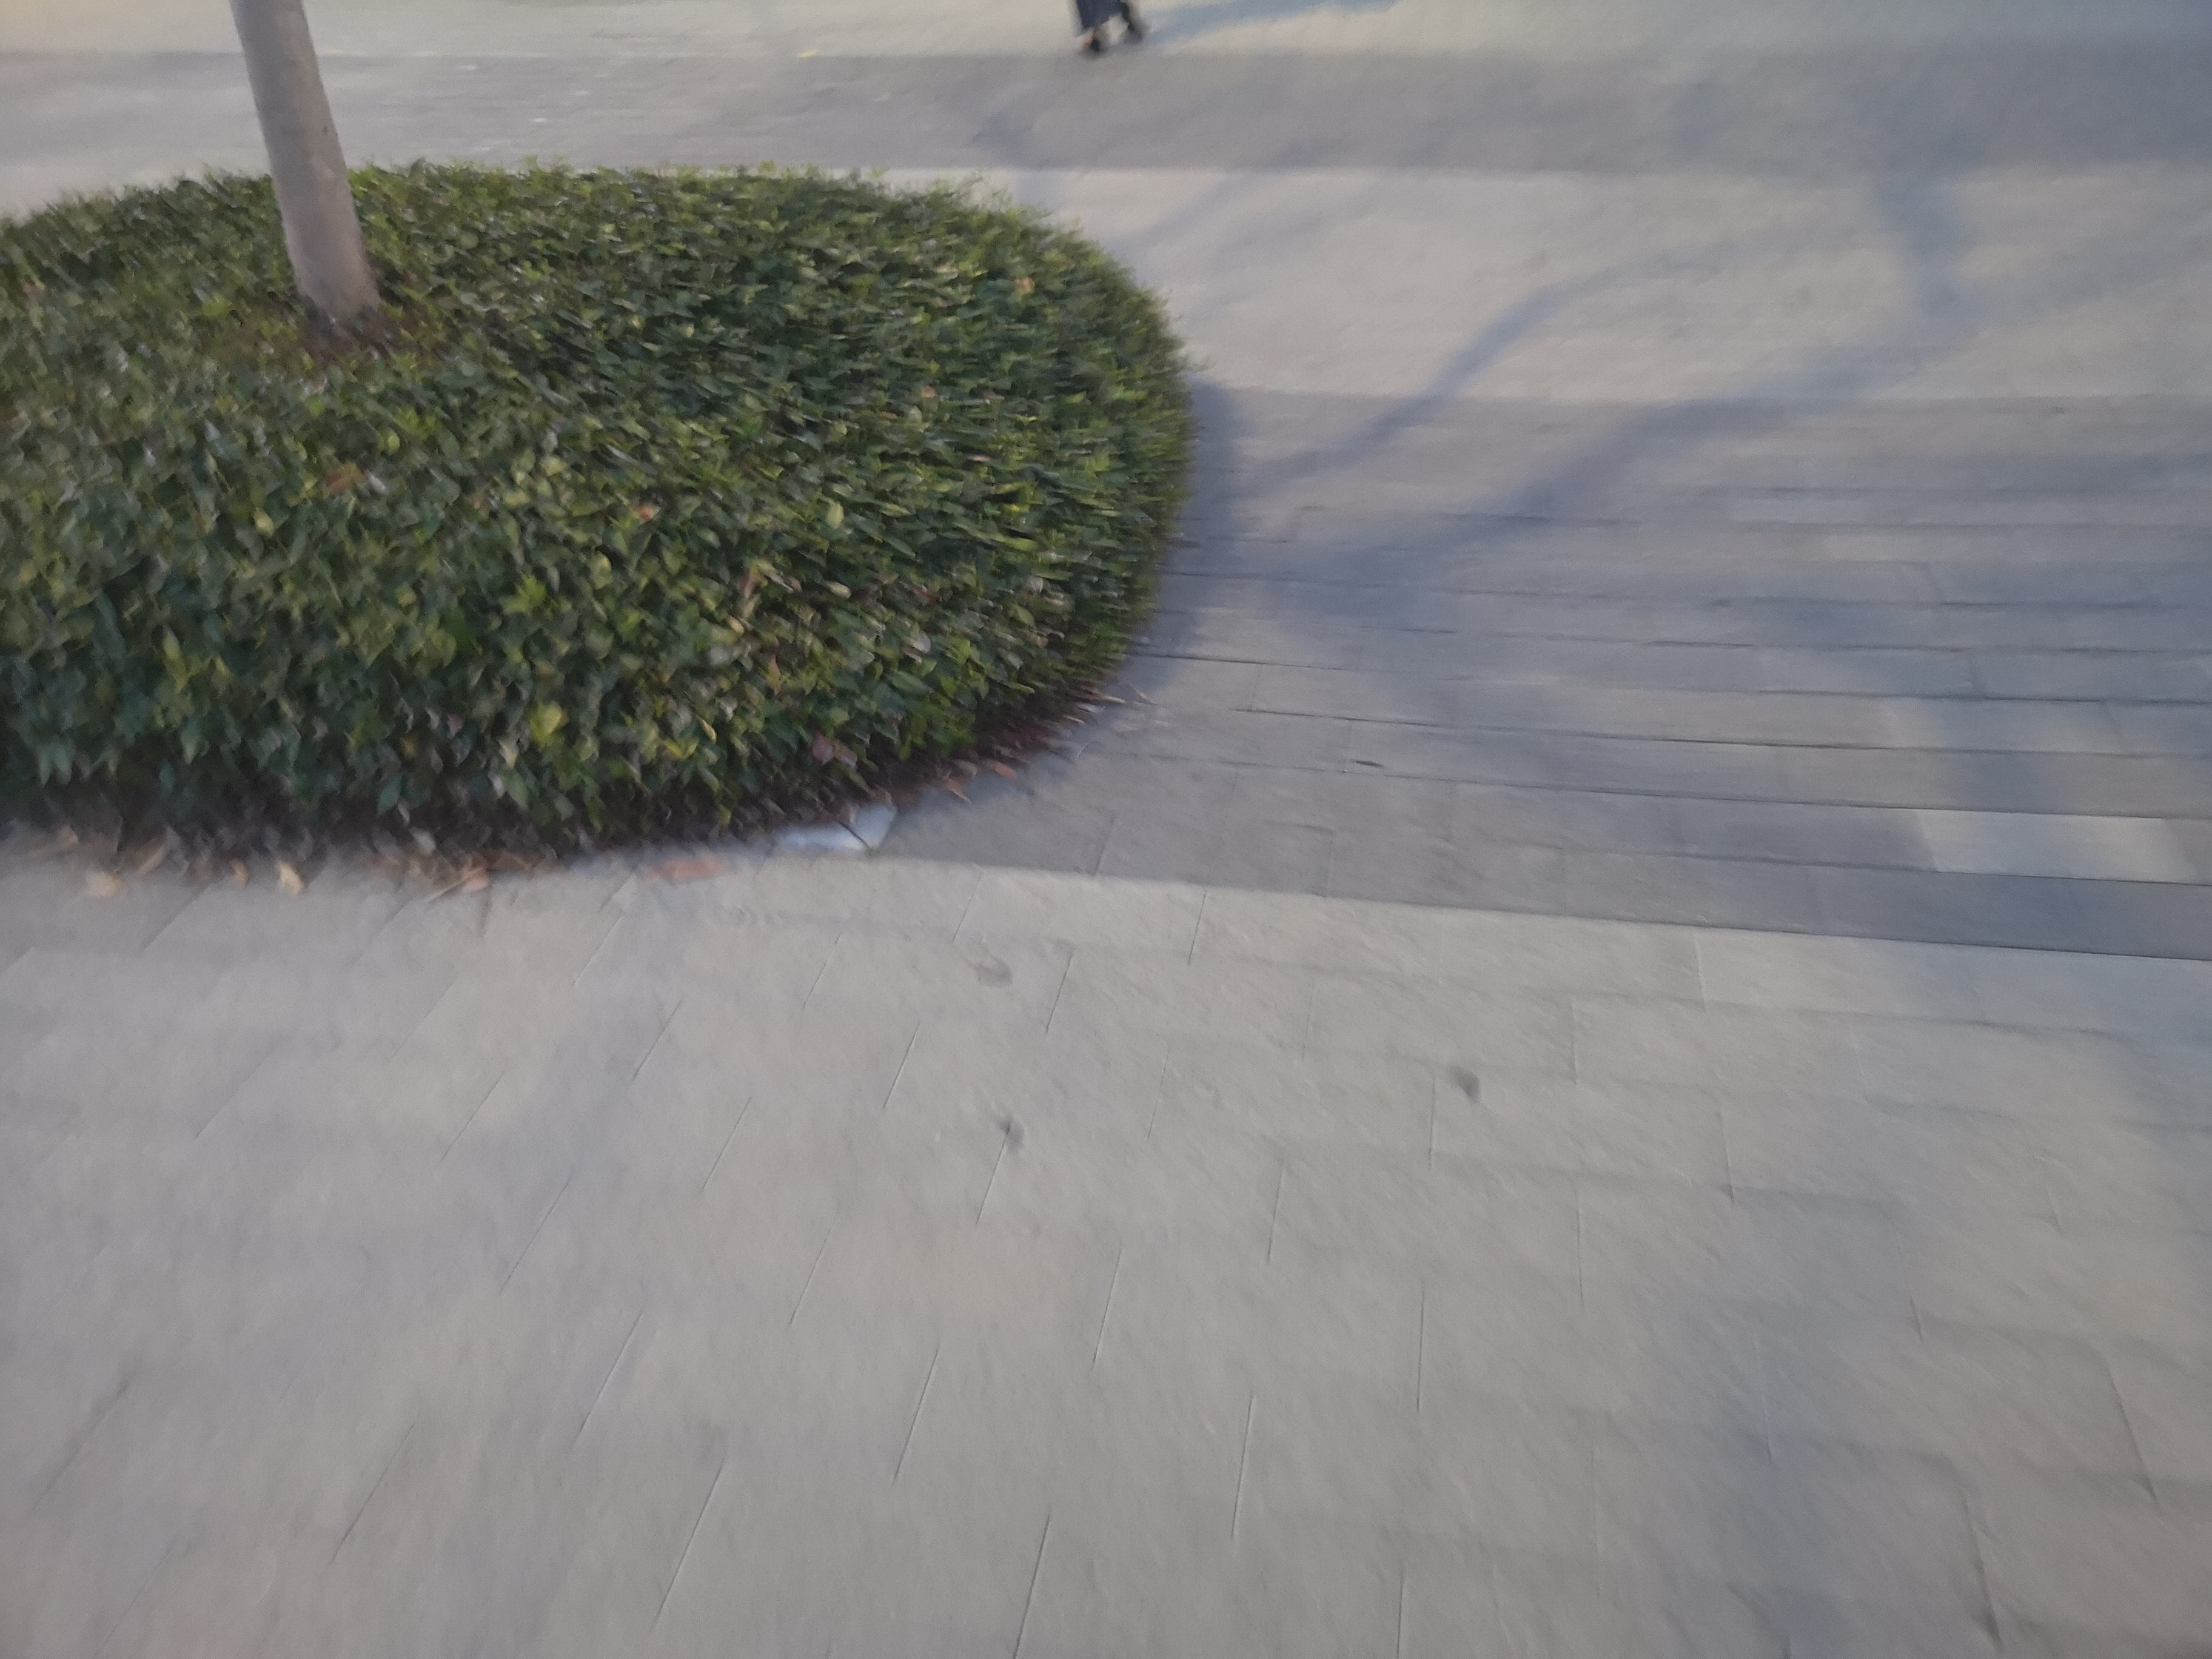Obstacle: (12, 148, 1205, 857)
